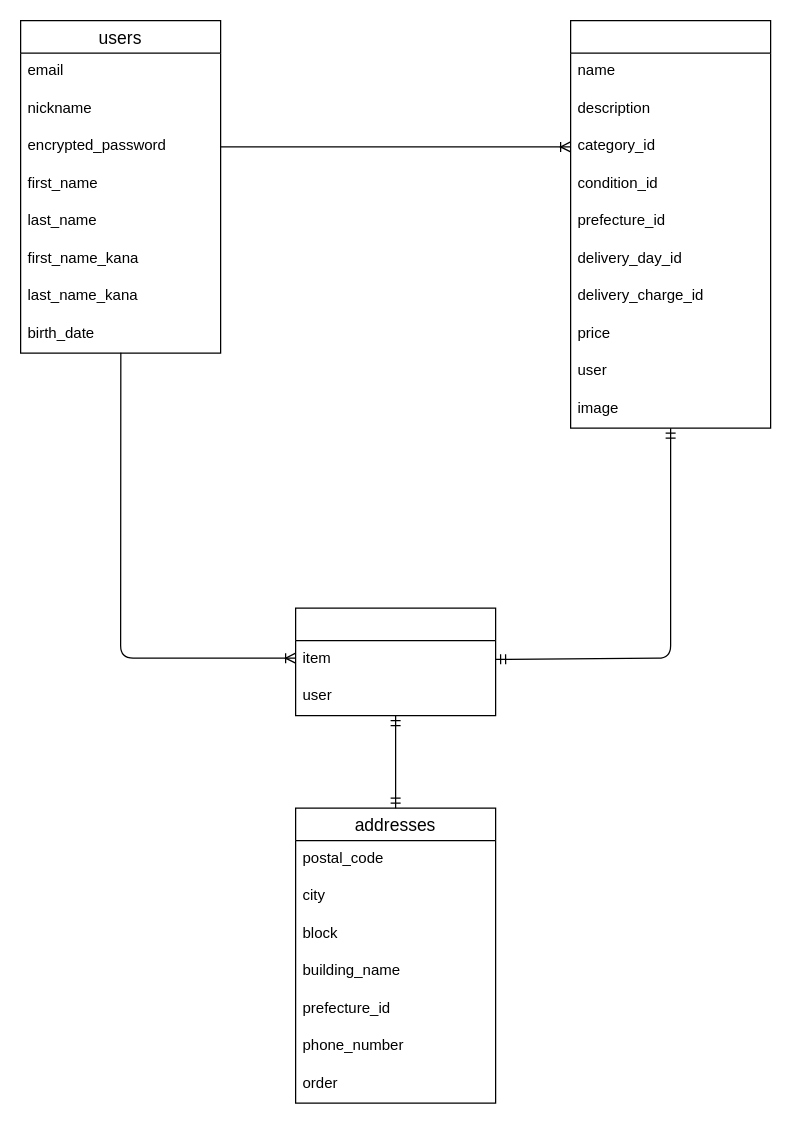
This 791x1124 diagram has some shape labels left out. The shapes that lost their labels are listed below. From the top down, each one's box as (x1, y1, x2, y2) in pixels, then its label:
(569, 19, 771, 428): items
(294, 607, 496, 716): orders
